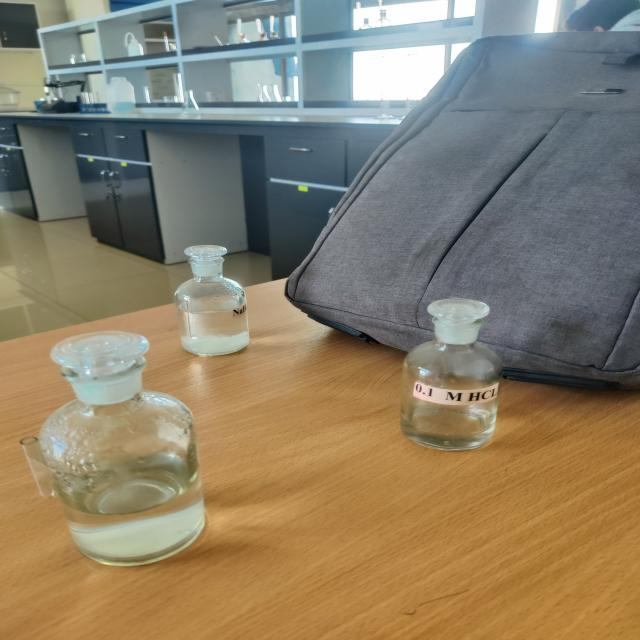Reagent_Bottle: (9, 306, 229, 595), (359, 280, 553, 463), (156, 215, 289, 367)
